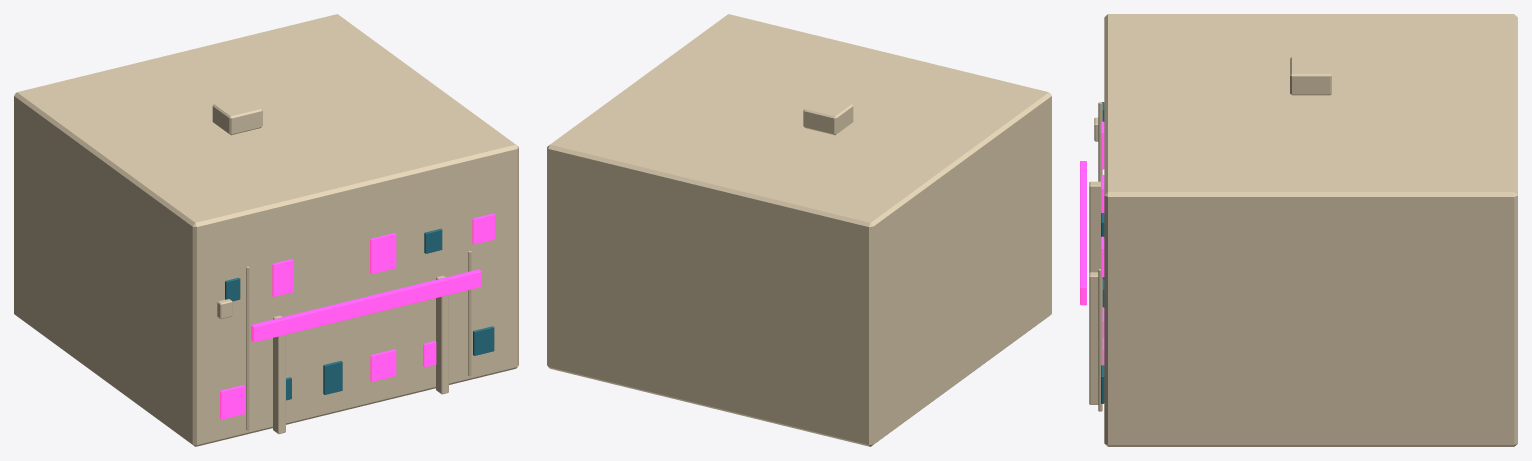
Rendered from building_039_seed11.glb.
3 renders of one model, left to right at view 1: azimuth 30°, elevation 25°; view 2: azimuth 150°, elevation 25°; view 3: azimuth 270°, elevation 25°, orthographic. The views are drawn at different scales.
Parts seen in each view (by area): view 1: building_039_seed11; view 2: building_039_seed11; view 3: building_039_seed11.
Boxes of the visible parts, left/top/right/bottom form: building_039_seed11: left=14, top=14, right=518, bottom=446; building_039_seed11: left=547, top=14, right=1051, bottom=446; building_039_seed11: left=1080, top=14, right=1517, bottom=446.
Size of the model in its own units: 9.02 by 6.42 by 9.21.
